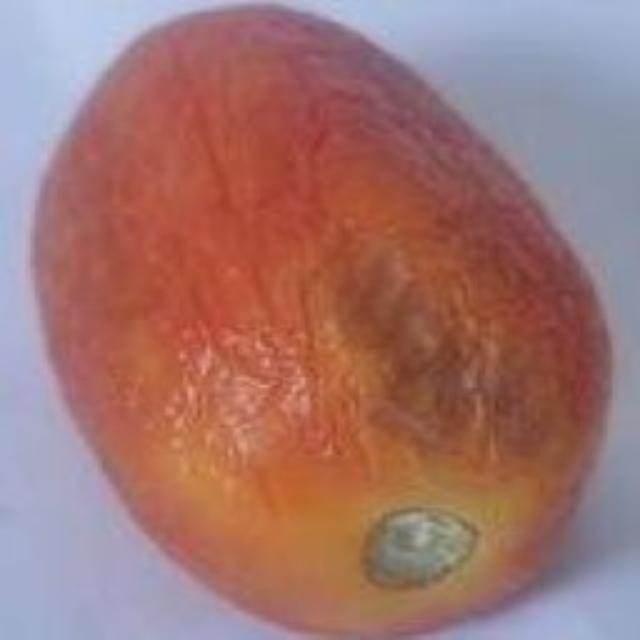defect: (28, 6, 614, 638)
